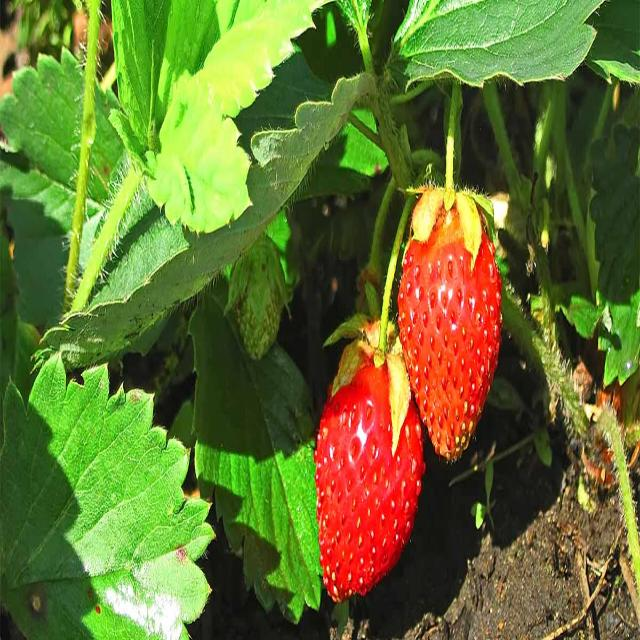strawberry: (303, 308, 426, 603), (394, 166, 506, 466)
